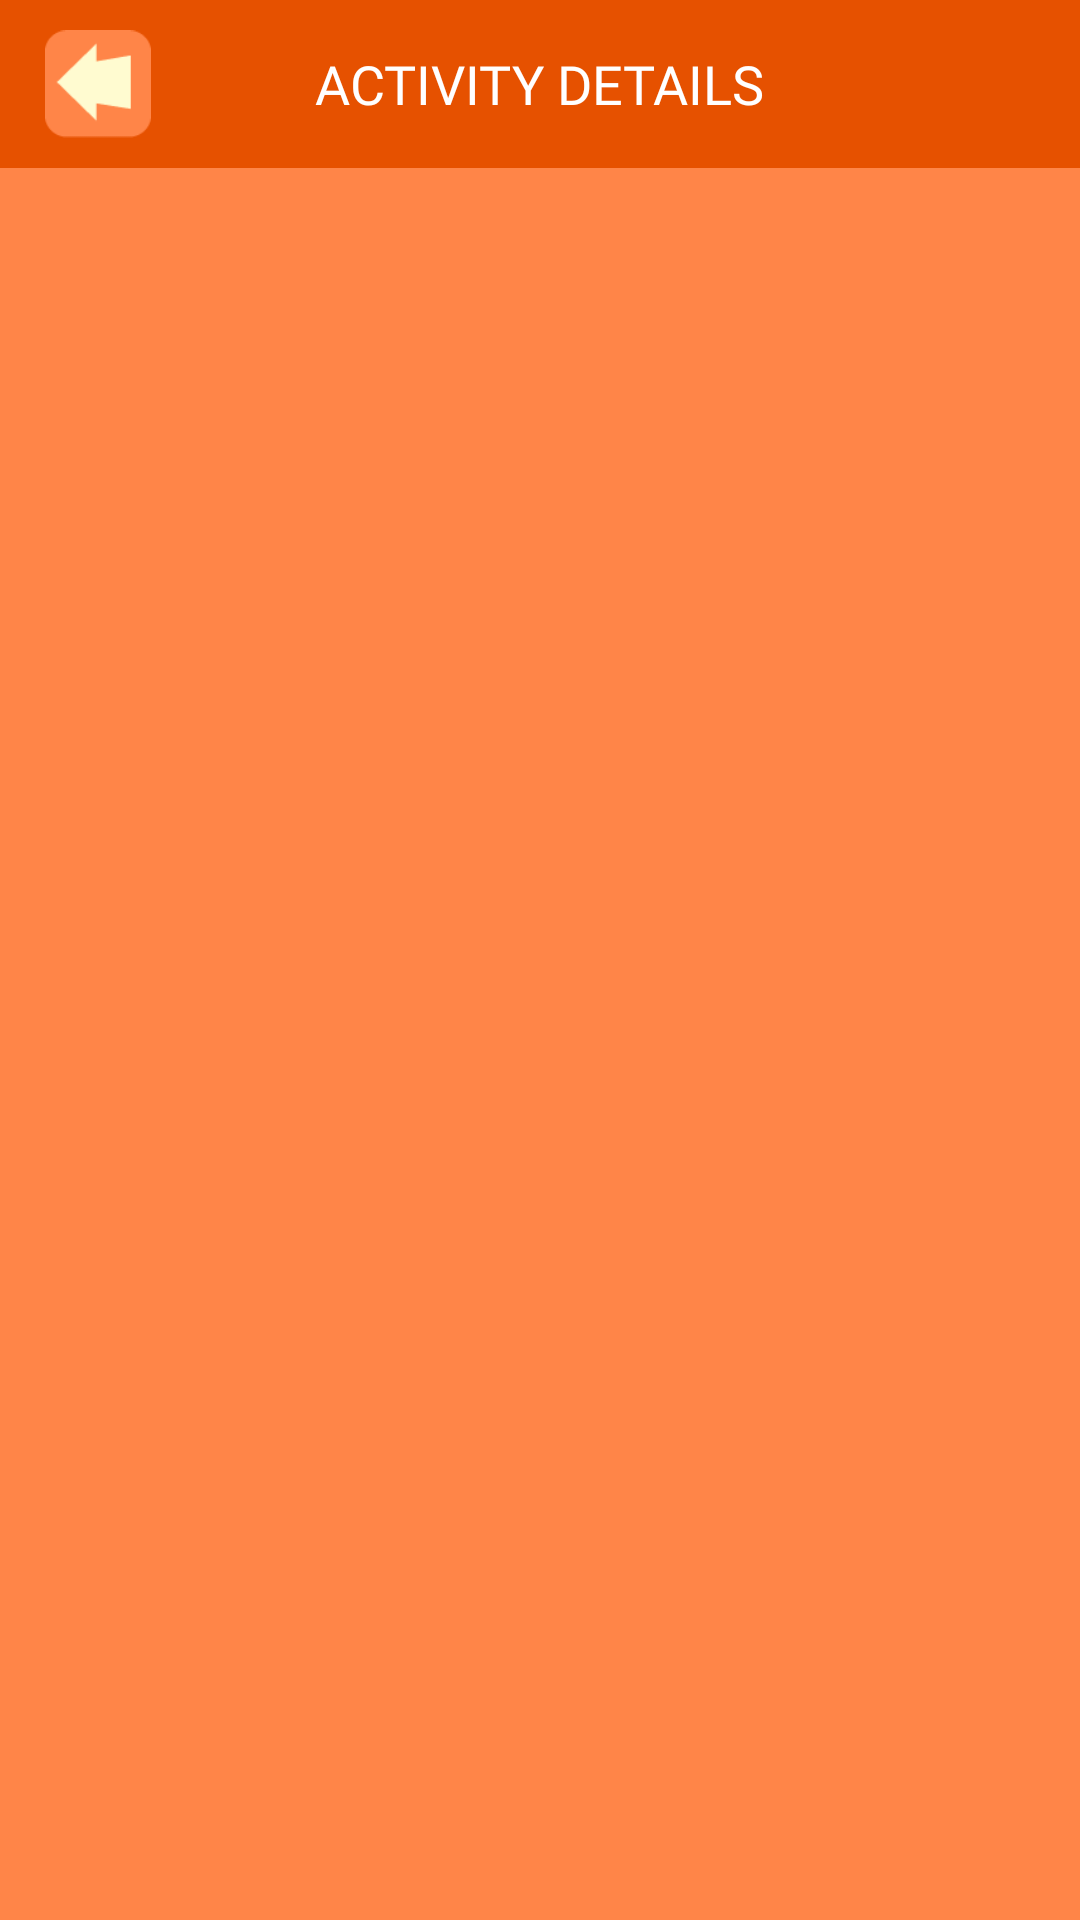

Named icons in this screenshot (1080w x 1920h) and their bounding boxes, {"x1": x1, "y1": y1, "x2": x2, "y2": y2}:
back: {"x1": 45, "y1": 30, "x2": 151, "y2": 137}
